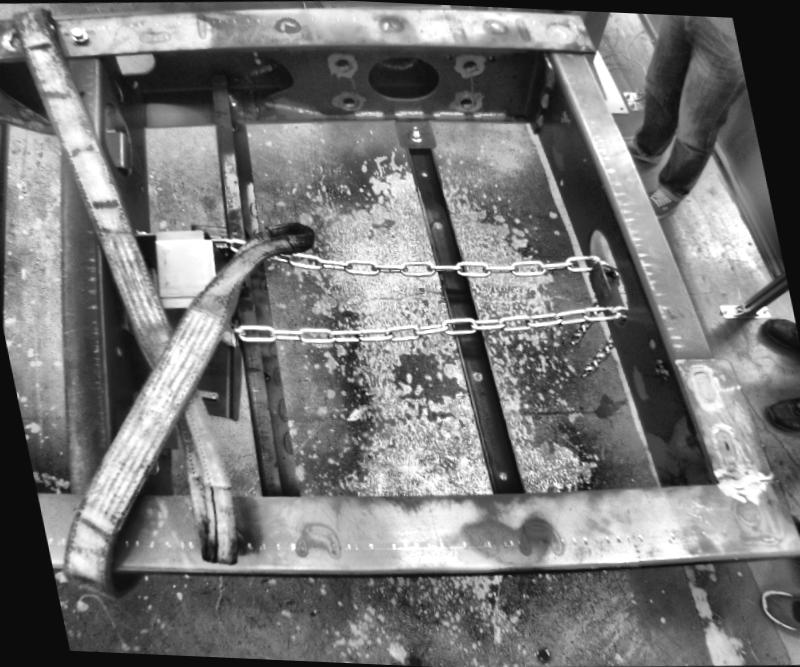bolt: (66, 22, 90, 45), (648, 353, 669, 374), (217, 87, 238, 104), (405, 120, 420, 142)
bracket: (583, 255, 611, 305)
hole: (358, 47, 445, 100), (329, 52, 352, 69), (341, 93, 359, 108), (458, 55, 476, 69), (468, 366, 484, 381), (457, 94, 474, 107), (430, 218, 444, 232), (496, 468, 510, 481), (642, 333, 656, 346), (111, 341, 123, 356), (73, 83, 84, 95), (417, 165, 426, 173)
